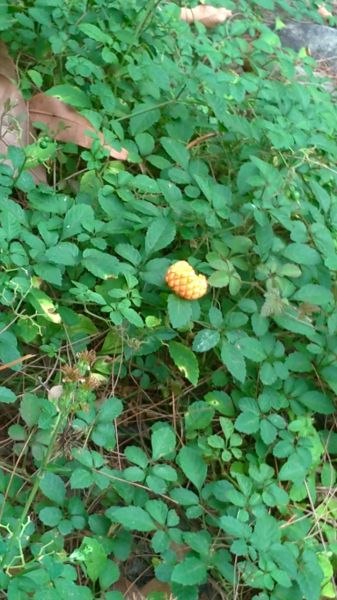eggs: (164, 260, 206, 301)
